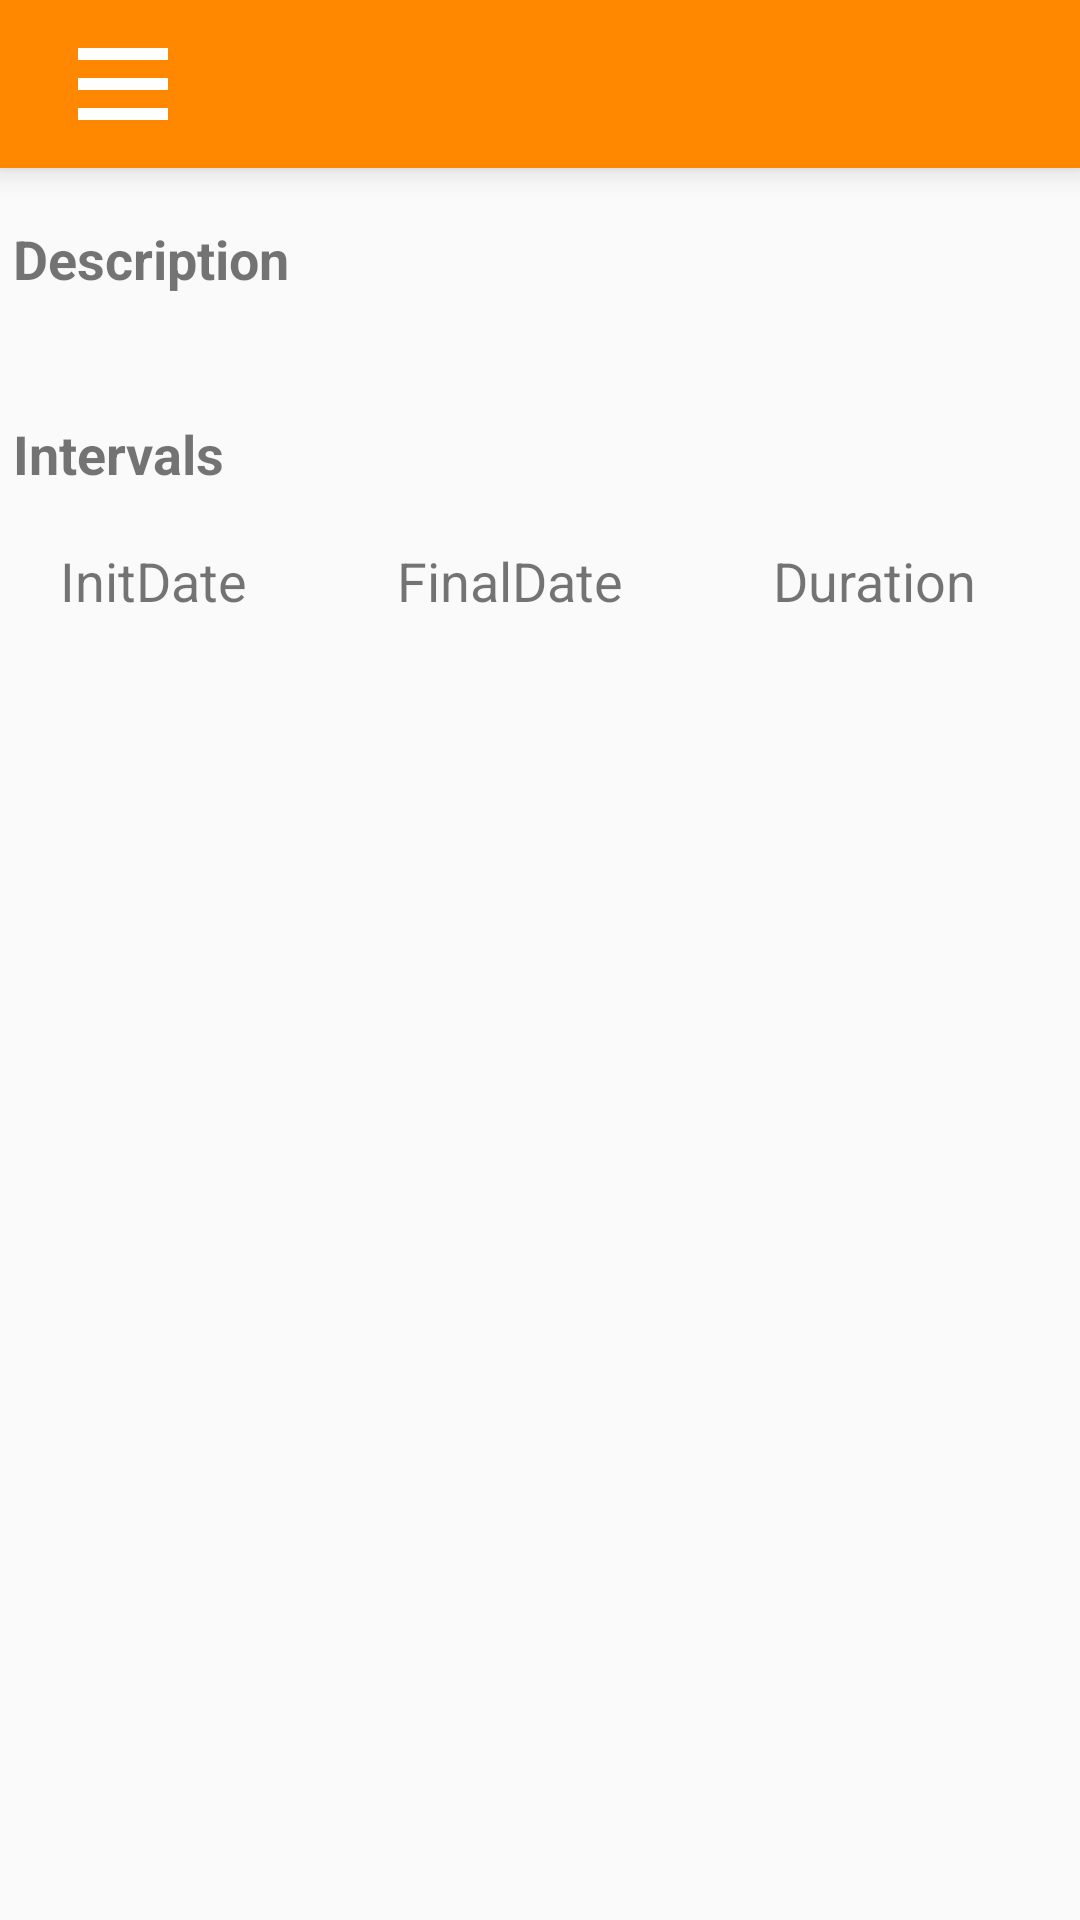

Locate icon controls on the screen. Image size 1080*1920, boxes as [x1, y1, x2, y2].
menuprin: [78, 48, 168, 120]
